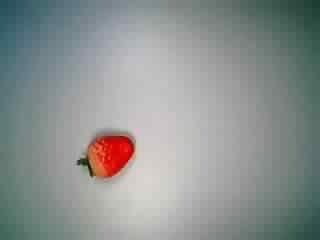strawberry: (72, 121, 140, 185)
